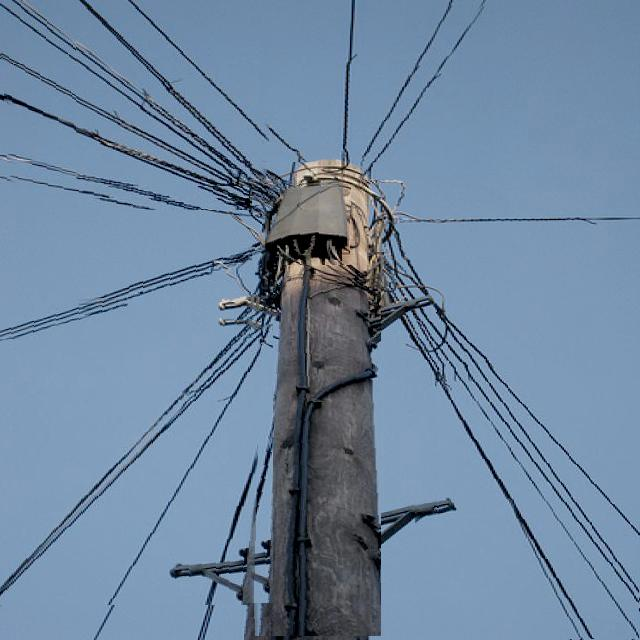pole: (253, 274, 381, 636)
transformer: (253, 184, 351, 265)
wire: (0, 317, 261, 602), (418, 312, 639, 640), (7, 0, 254, 184), (408, 332, 559, 593), (447, 314, 625, 532), (0, 43, 249, 198), (136, 324, 273, 603), (77, 0, 269, 186), (125, 0, 319, 160), (362, 6, 497, 180), (374, 7, 457, 173), (8, 163, 212, 210), (131, 245, 277, 293), (0, 298, 128, 339), (551, 609, 567, 626), (559, 607, 570, 630), (569, 628, 581, 639), (340, 137, 343, 154), (395, 218, 424, 219)
